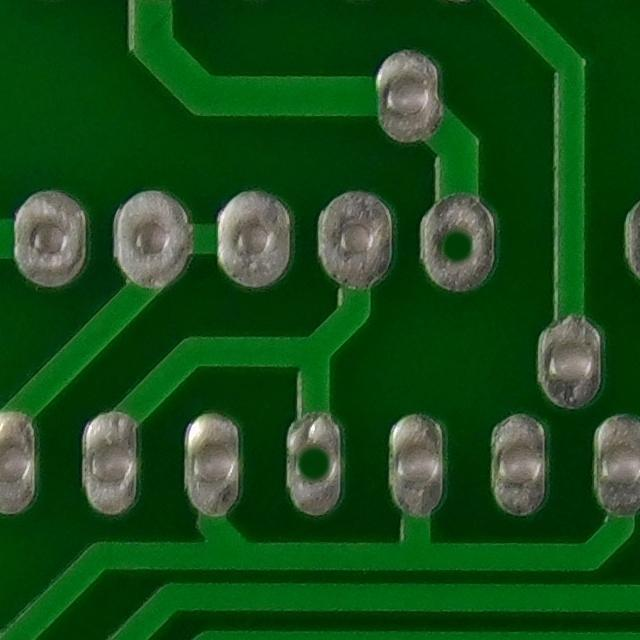missing_hole: (410, 197, 507, 295), (276, 428, 349, 505)
